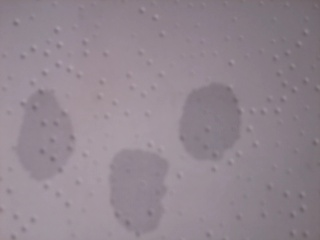Water_detected: (123, 155, 164, 213), (176, 102, 222, 146), (23, 121, 62, 164)
